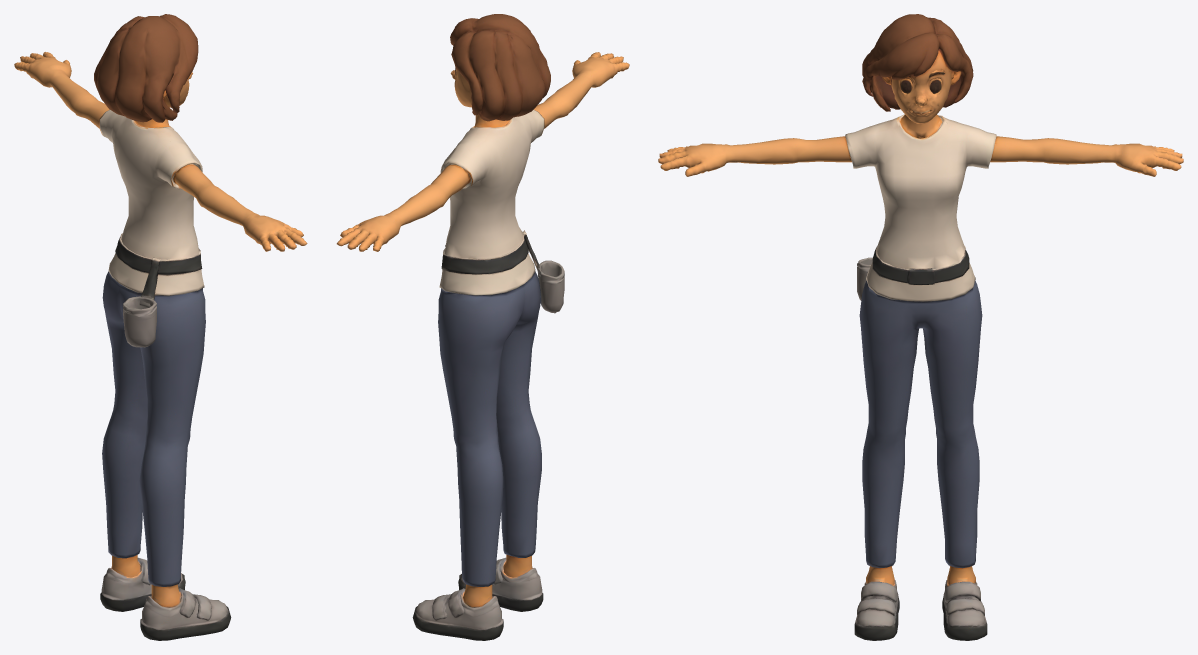
Rendered from climber_female_base.glb.
3 views of the same model, side by side, from view 1: azimuth 30°, elevation 25°; view 2: azimuth 150°, elevation 25°; view 3: azimuth 270°, elevation 25° (orthographic).
Visible parts, largest first — view 1: tripo_node_c0e81b6b-98e8-48f5-ba07-aad7f8c8e7b9; view 2: tripo_node_c0e81b6b-98e8-48f5-ba07-aad7f8c8e7b9; view 3: tripo_node_c0e81b6b-98e8-48f5-ba07-aad7f8c8e7b9.
Boxes of the visible parts, x1,y1,x2,y2 form: tripo_node_c0e81b6b-98e8-48f5-ba07-aad7f8c8e7b9: (14, 14, 307, 640); tripo_node_c0e81b6b-98e8-48f5-ba07-aad7f8c8e7b9: (336, 14, 629, 640); tripo_node_c0e81b6b-98e8-48f5-ba07-aad7f8c8e7b9: (658, 14, 1183, 640).
Bounding box in the file's own units: 0.1777 × 0.998 × 0.7949.
Materials: 1 (1 with a texture image).
